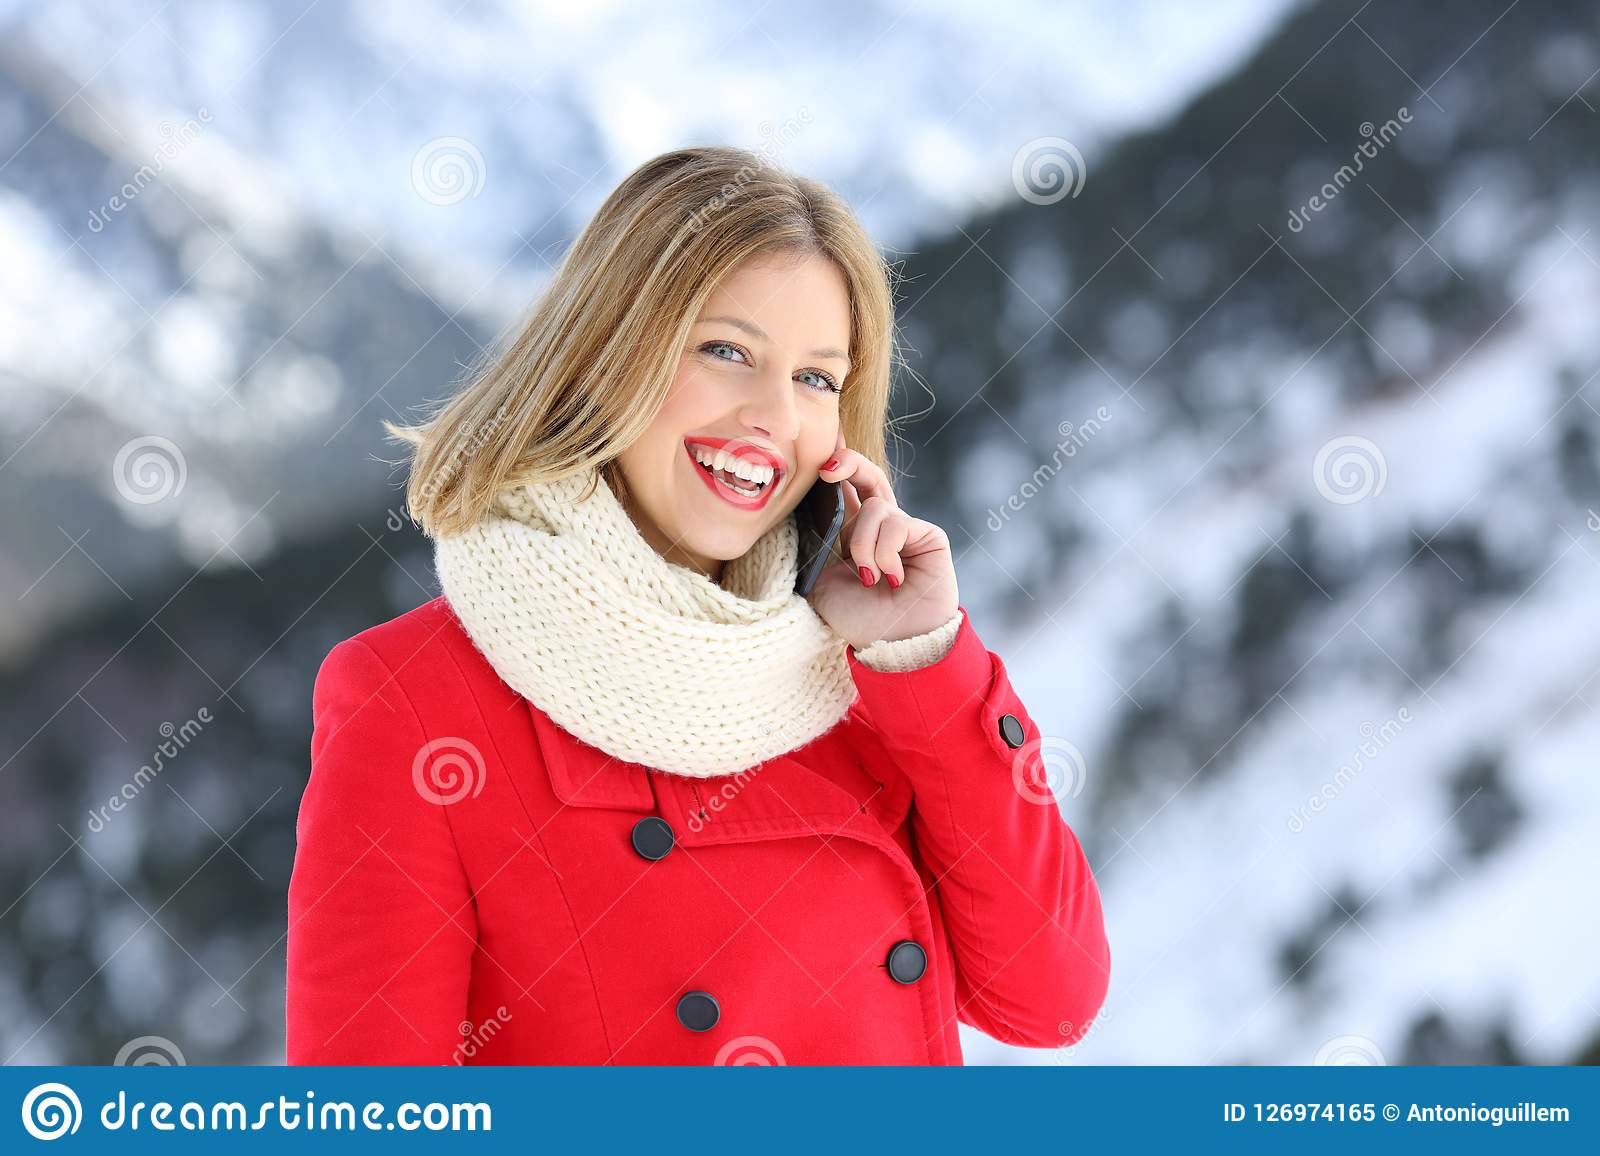phone: (795, 474, 848, 603)
talk: (660, 296, 964, 633)
